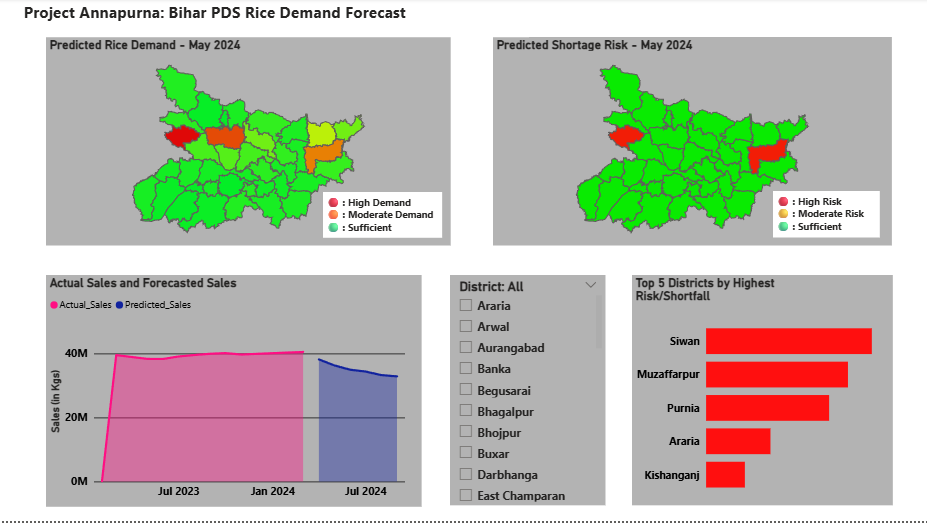

The page's visual inventory and layout, read from the dashboard file:
{"tool":"powerbi","page":{"name":"page","canvas":[1280,720],"ordinal":0},"visuals":[{"type":"shapeMap","title":"Predicted Rice Demand - May 2024","fields":{"Category":["Sheet1.District"],"Value":["Sum(Sheet1.Predicted_Sales)"]},"box":[62.9,54.3,557.1,287.1],"z":0},{"type":"shapeMap","title":"Predicted Shortage Risk - May 2024","fields":{"Category":["Sheet1.District"]},"box":[678.6,54.3,548.6,287.1],"z":1000},{"type":"lineChart","title":"Actual Sales and Forecasted Sales","fields":{"Y":["Sum(Sheet1.Actual_Sales)","Sum(Sheet1.Predicted_Sales)"],"Category":["Sheet1.Date.Variation.Date Hierarchy.Year","Sheet1.Date.Variation.Date Hierarchy.Month"]},"box":[62.9,381.4,517.1,318.6],"z":2000},{"type":"slicer","fields":{"Values":["Sheet1.District"]},"box":[620,381.4,214.3,317.1],"z":3000},{"type":"textbox","box":[27.1,0,700,54.3],"z":4000},{"type":"clusteredBarChart","title":"Top 5 Districts by Highest Risk/Shortfall","fields":{"Category":["Sheet1.District"],"Y":["Sum(Sheet1.Shortfall_Surplus_Kgs)"]},"box":[870,381.4,358.6,317.1],"z":5000},{"type":"textbox","box":[1064.3,265.7,147.1,64.3],"z":6000},{"type":"textbox","box":[444.3,267.1,164.3,62.9],"z":7000}]}

Visuals, with their boxes in screenshot pixels (x1, y1, x2, y2), scaled from the page's 1280x720 canvas onto the 927x523 screenshot:
"Predicted Rice Demand - May 2024" shapeMap: <box>46,39,449,248</box>
"Predicted Shortage Risk - May 2024" shapeMap: <box>491,39,889,248</box>
"Actual Sales and Forecasted Sales" lineChart: <box>46,277,420,508</box>
slicer - Sheet1.District: <box>449,277,604,507</box>
textbox: <box>20,0,527,39</box>
"Top 5 Districts by Highest Risk/Shortfall" clusteredBarChart: <box>630,277,890,507</box>
textbox: <box>771,193,877,240</box>
textbox: <box>322,194,441,240</box>
